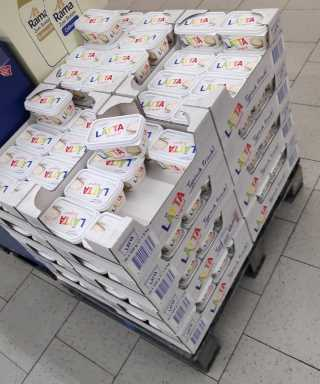laetta: (86, 115, 148, 159), (63, 168, 125, 211), (40, 196, 99, 241), (147, 127, 197, 173), (85, 154, 150, 188), (24, 84, 74, 127), (74, 8, 125, 43), (220, 12, 268, 48), (175, 11, 227, 43), (104, 49, 149, 82), (123, 27, 168, 58), (193, 73, 242, 101), (135, 90, 178, 119), (15, 123, 57, 152), (147, 70, 195, 95), (166, 49, 213, 74), (1, 147, 43, 174), (44, 62, 83, 88), (86, 67, 125, 91), (68, 44, 104, 65), (138, 10, 174, 26)
